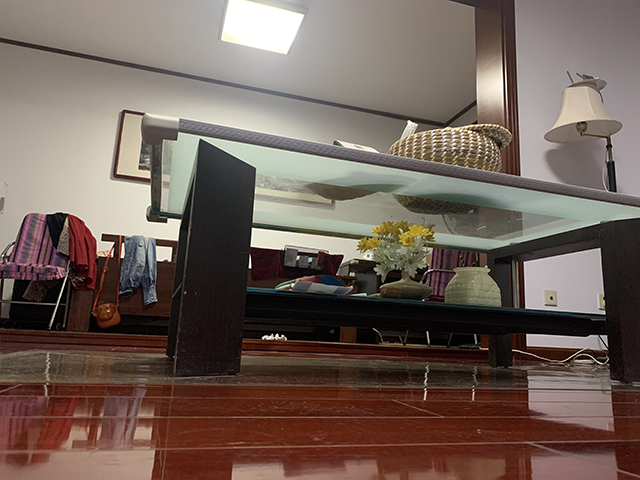bed: (67, 232, 362, 343)
stool: (1, 210, 99, 332)
table: (136, 112, 640, 387)
wire: (476, 334, 610, 372)
